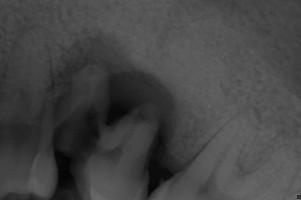Dental Caries: (54, 31, 176, 163)
